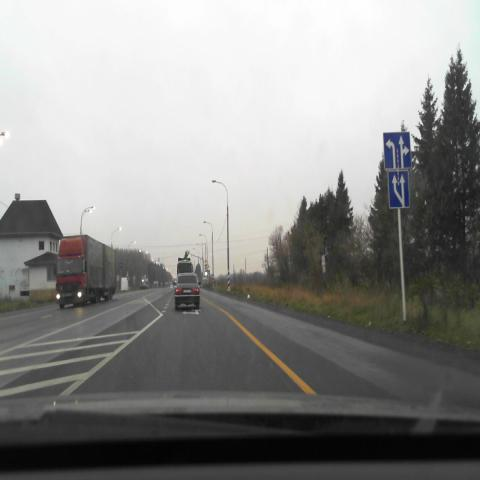5_15_2_2: (383, 132, 411, 169)
5_15_3: (387, 171, 410, 208)
